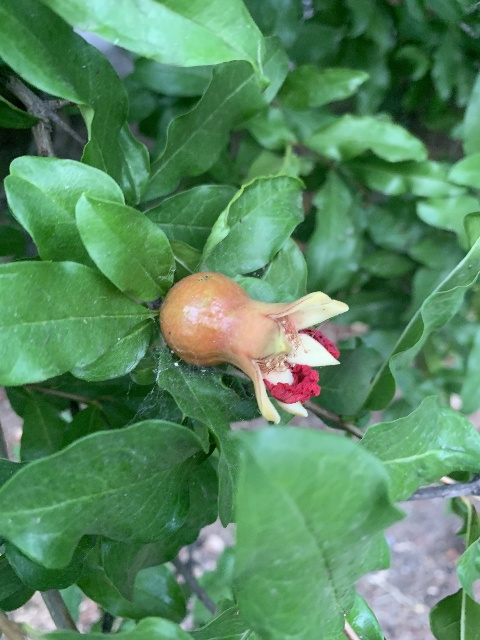early-fruit: (160, 271, 350, 423)
